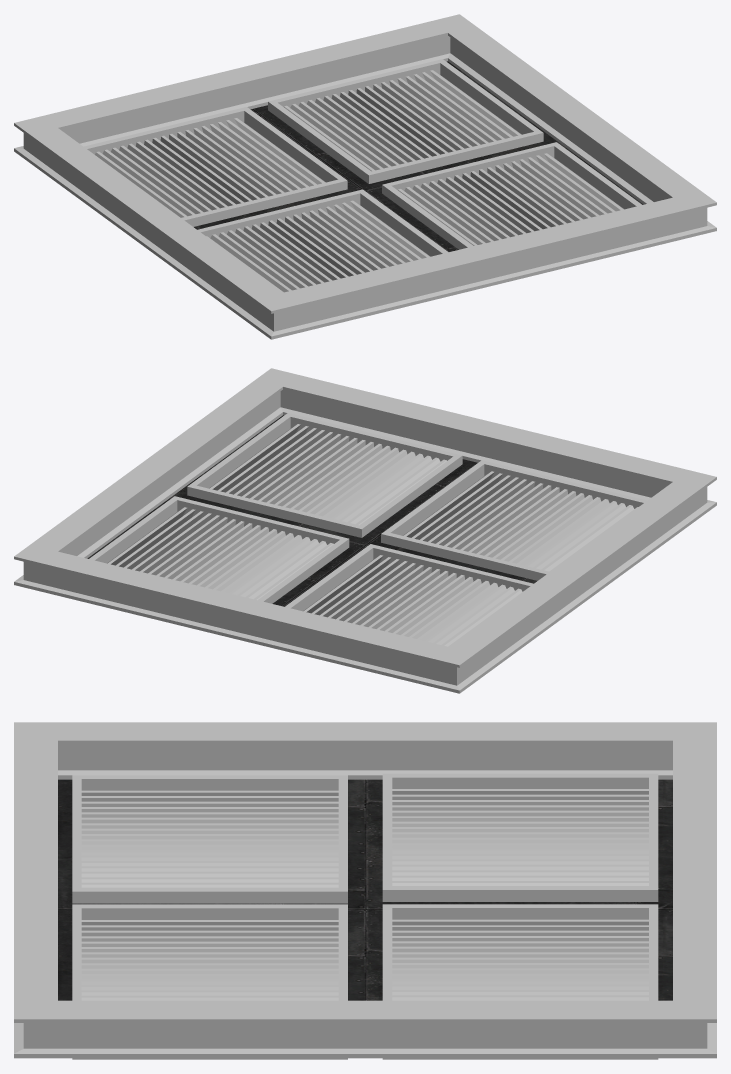
Rendered from engineroom_walls_04.dae.
The picture shows the model from 3 angles, top to bottom: view 1: azimuth 30°, elevation 25°; view 2: azimuth 150°, elevation 25°; view 3: azimuth 270°, elevation 25°; orthographic projection. The views are drawn at different scales.
Parts seen in each view (by area): view 1: wall_04_16m, wall_04_16m_sheets; view 2: wall_04_16m, wall_04_16m_sheets; view 3: wall_04_16m, wall_04_16m_sheets.
Part boxes in pixels (box(x1,y1,x2,y2)): wall_04_16m: box(14, 14, 716, 339); wall_04_16m_sheets: box(194, 61, 643, 251); wall_04_16m: box(14, 368, 716, 693); wall_04_16m_sheets: box(87, 415, 536, 606); wall_04_16m: box(14, 722, 716, 1059); wall_04_16m_sheets: box(58, 779, 672, 1000).
Bounding box in the file's own units: 1600 × 165 × 1600.
